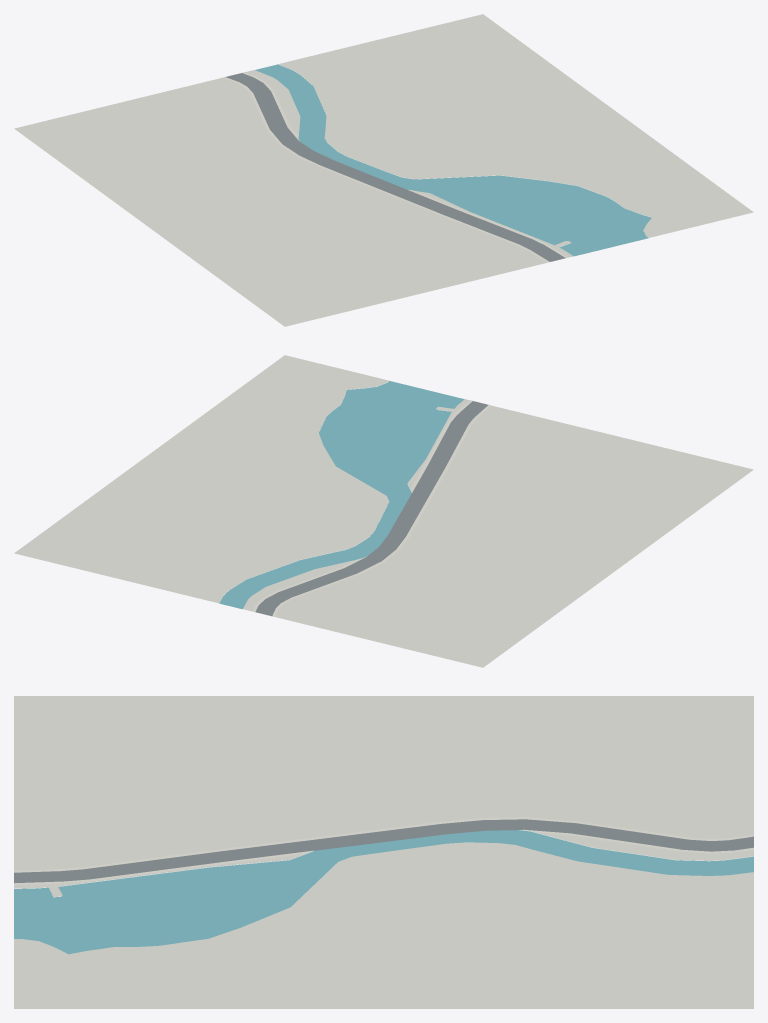
3 views of the same model, one above another, from view 1: azimuth 30°, elevation 25°; view 2: azimuth 150°, elevation 25°; view 3: azimuth 270°, elevation 25° (orthographic). The views are drawn at different scales.
Parts seen in each view (by area): view 1: city; view 2: city; view 3: city.
Part boxes in pixels (bbox=[...]): city: bbox=[14, 14, 753, 326]; city: bbox=[14, 355, 753, 667]; city: bbox=[14, 696, 753, 1008].
Size of the model in its own units: 500 by 0.4 by 500.
